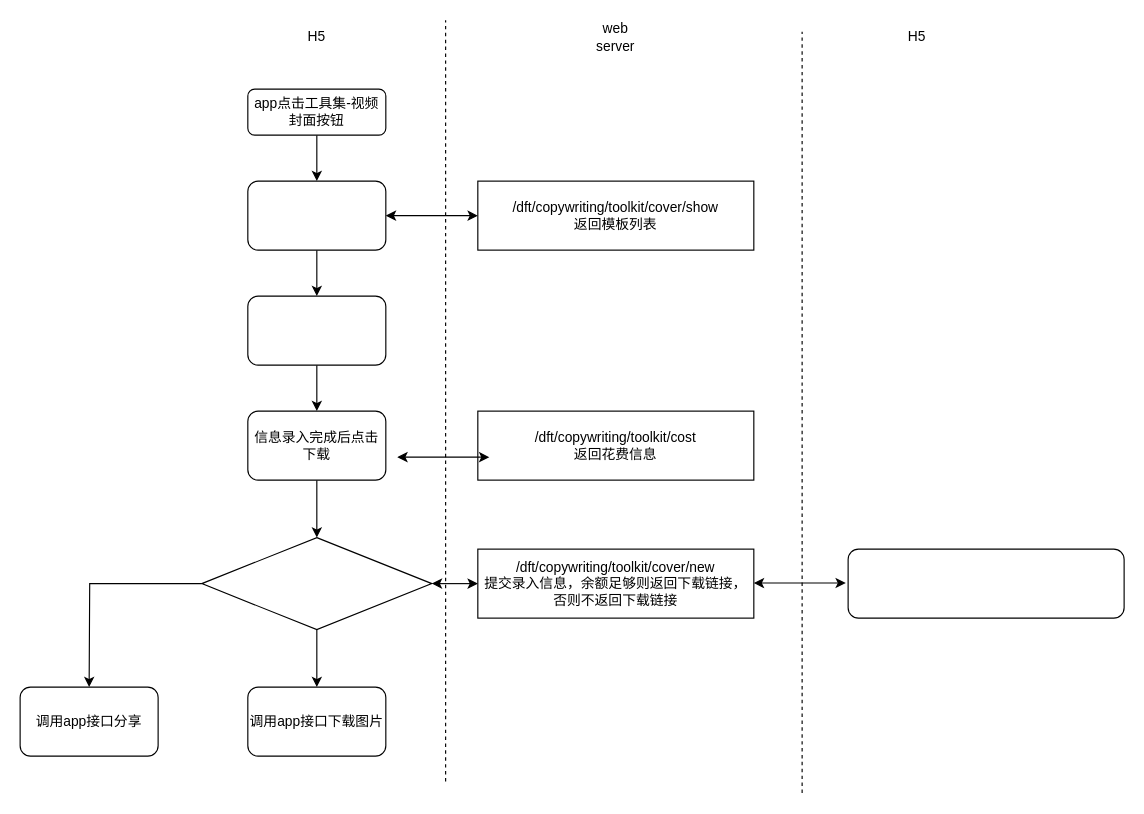
This 1144x814 diagram has some shape labels left out. Here are the shapes that lost their labels. From the top down, the centre of each, then its label:
At (316,215): "打开封面选择页面".
At (316,330): "选择模板后点击进入制作封面".
At (316,583): "余额是否足够".
At (985,583): "携带录入信息请求模板页面生成封面图片".
